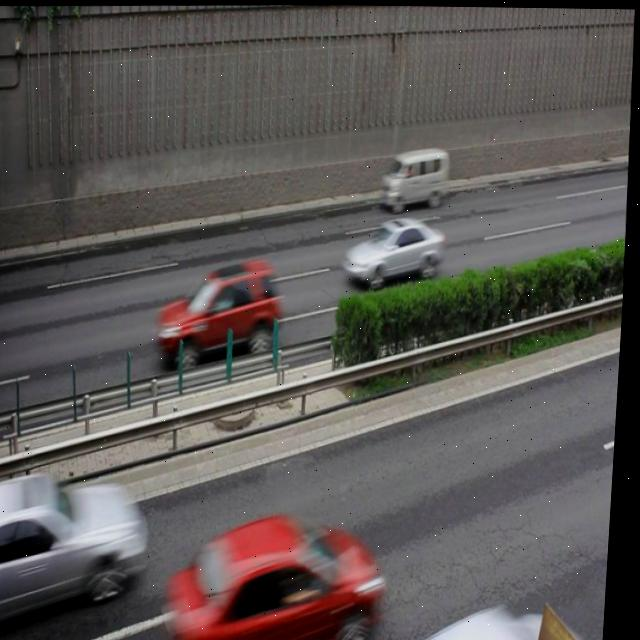car: (163, 508, 389, 640), (0, 470, 156, 626), (157, 259, 288, 364), (342, 215, 447, 285)
truck: (380, 147, 452, 207)
